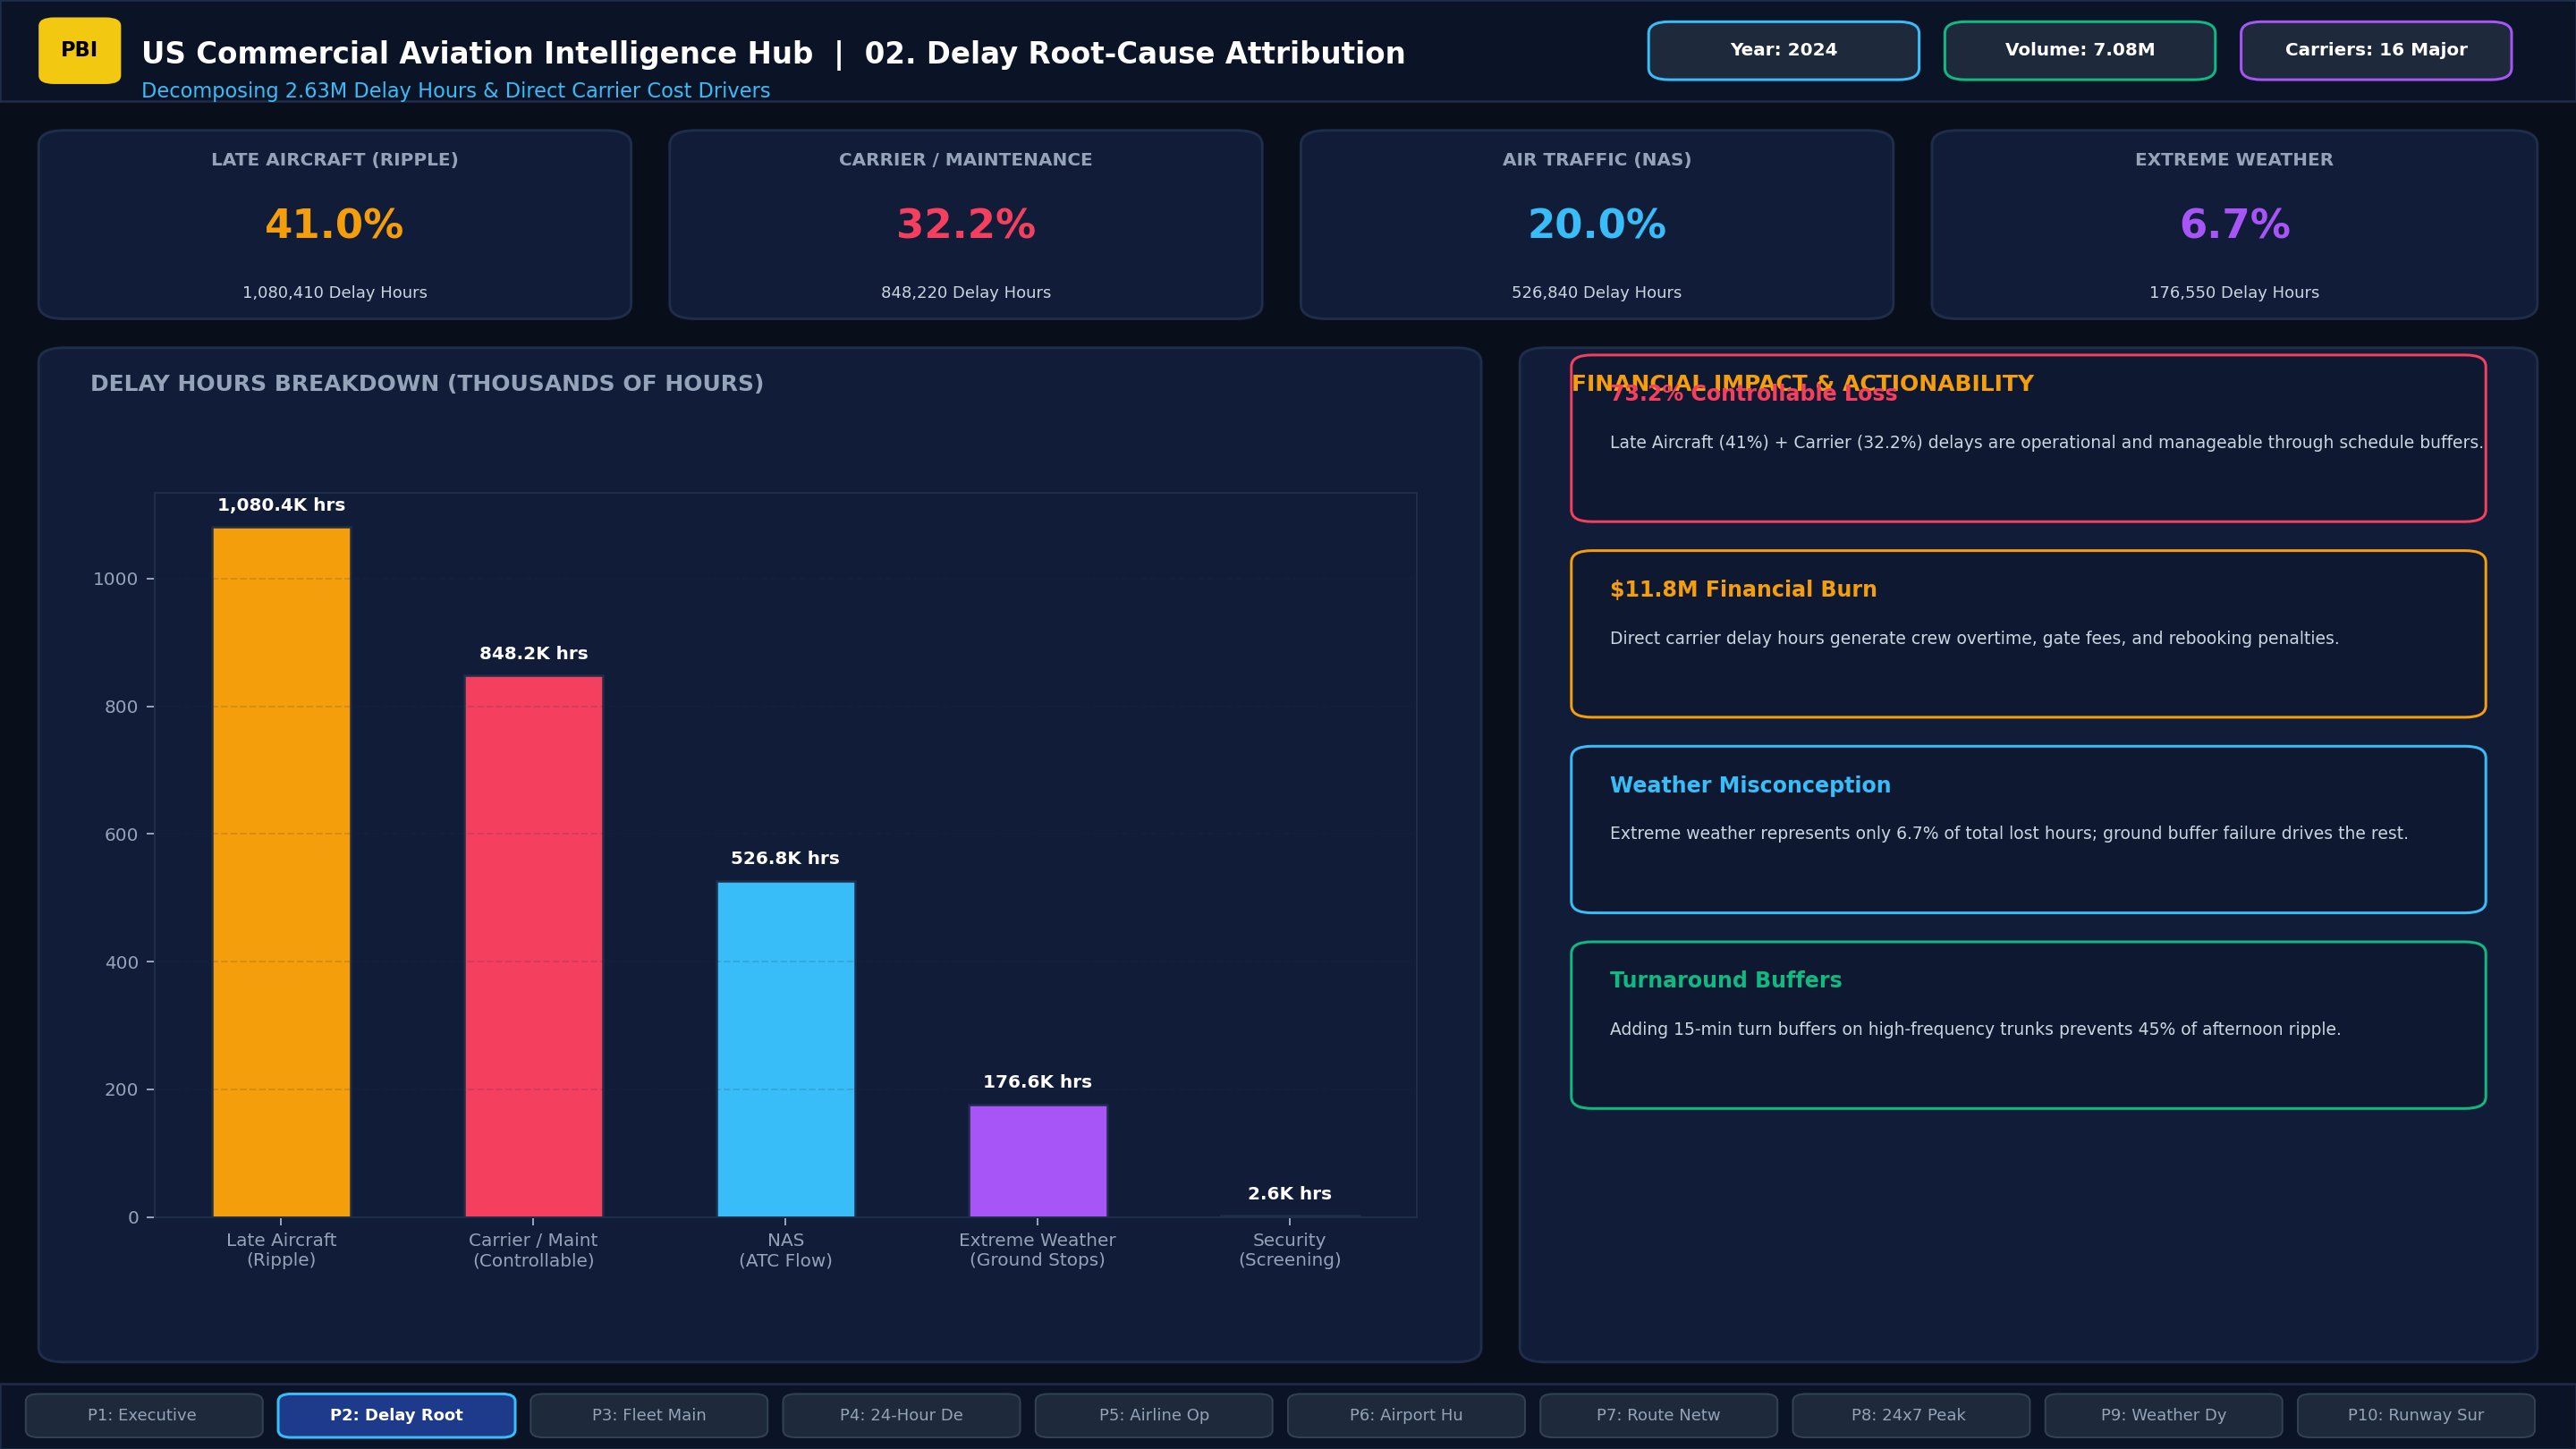

Layout of this report page (visuals, bound fields, positions):
{"tool":"powerbi","page":{"name":"2. Delay Root-Cause Attribution","canvas":[1920,1080],"ordinal":1},"visuals":[{"type":"cardVisual","fields":{"Data":["dim_airlines.Late Aircraft Delay Hours"]},"box":[40,40,440,130],"z":1},{"type":"cardVisual","fields":{"Data":["dim_airlines.Carrier Delay Hours"]},"box":[506,40,440,130],"z":2},{"type":"cardVisual","fields":{"Data":["dim_airlines.NAS Delay Hours"]},"box":[972,40,440,130],"z":3},{"type":"cardVisual","fields":{"Data":["dim_airlines.Weather Delay Hours"]},"box":[1438,40,440,130],"z":4},{"type":"donutChart","title":"Root Cause Flight Proportion","fields":{"Category":["flight_data_2024_powerbi.DelayReason"],"Y":["dim_airlines.Total Flights"]},"box":[40,200,580,480],"z":5},{"type":"lineStackedColumnComboChart","title":"Monthly Carrier vs Inbound Late Aircraft Hours","fields":{"Category":["dim_calendar.MonthName"],"Y":["dim_airlines.Carrier Delay Hours"],"Y2":["dim_airlines.Late Aircraft Delay Hours"]},"box":[640,200,840,480],"z":6},{"type":"clusteredBarChart","title":"Delay Hours by Root Cause Category","fields":{"Category":["flight_data_2024_powerbi.DelayReason"],"Y":["dim_airlines.Total Delay Hours"]},"box":[40,700,1440,340],"z":7},{"type":"slicer","title":"Select Month","fields":{"Values":["dim_calendar.MonthName"]},"box":[1500,200,380,840],"z":8}]}

Visuals, with their boxes on the page's 1920x1080 design canvas (x1, y1, x2, y2). These are canvas units, not pixel positions in the 2576x1449 screenshot, which may show the page scaled, cropped or inside an application window:
cardVisual - dim_airlines.Late Aircraft Delay Hours: locate(40, 40, 480, 170)
cardVisual - dim_airlines.Carrier Delay Hours: locate(506, 40, 946, 170)
cardVisual - dim_airlines.NAS Delay Hours: locate(972, 40, 1412, 170)
cardVisual - dim_airlines.Weather Delay Hours: locate(1438, 40, 1878, 170)
"Root Cause Flight Proportion" donutChart: locate(40, 200, 620, 680)
"Monthly Carrier vs Inbound Late Aircraft Hours" lineStackedColumnComboChart: locate(640, 200, 1480, 680)
"Delay Hours by Root Cause Category" clusteredBarChart: locate(40, 700, 1480, 1040)
"Select Month" slicer: locate(1500, 200, 1880, 1040)
